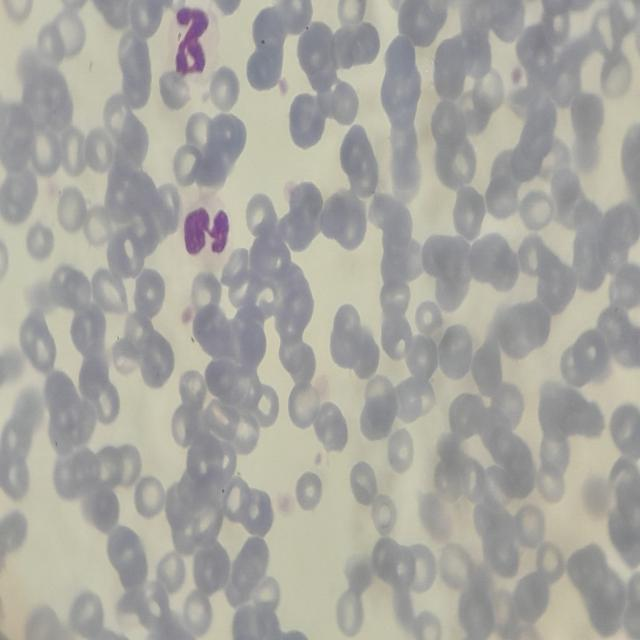Neutrofilo: (180, 194, 238, 273), (171, 6, 224, 88)
